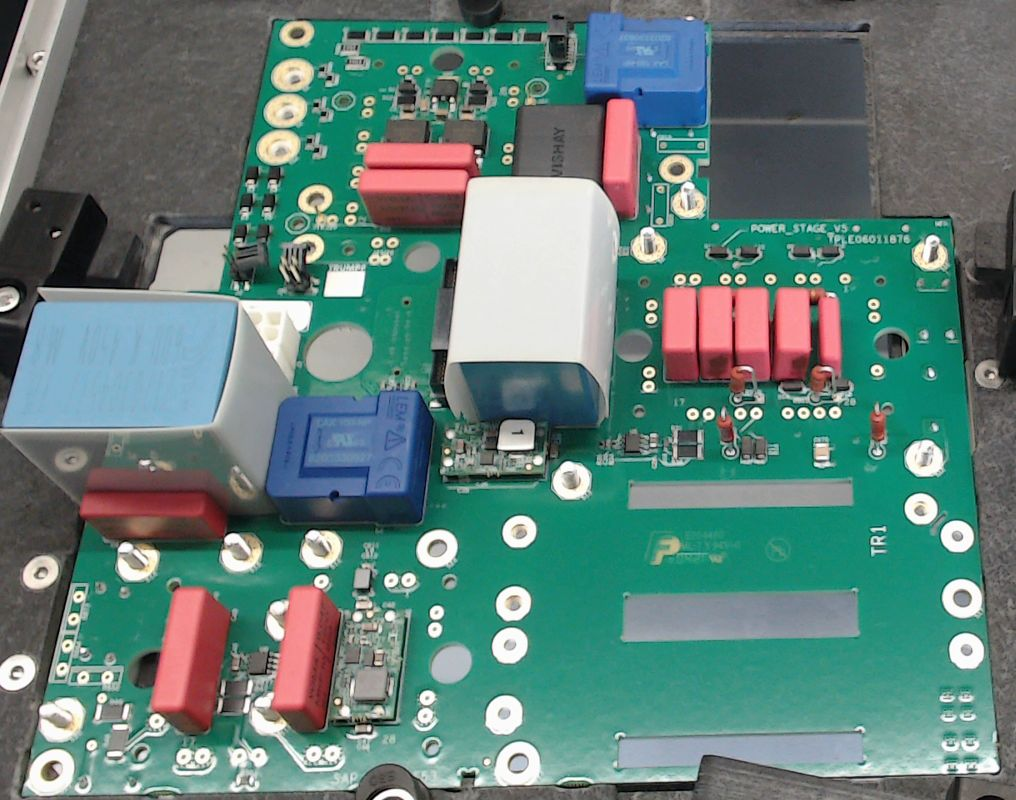comp1: (266, 391, 434, 529), (584, 10, 708, 127)
comp2: (150, 588, 231, 733), (271, 589, 341, 733), (77, 492, 226, 537), (359, 168, 471, 226), (732, 281, 772, 389), (603, 96, 637, 218), (662, 285, 700, 383), (773, 287, 811, 383), (697, 284, 733, 381), (363, 142, 477, 168), (818, 295, 842, 378)
comp3: (510, 104, 605, 180)
comp4: (4, 288, 296, 517), (443, 178, 620, 428)
